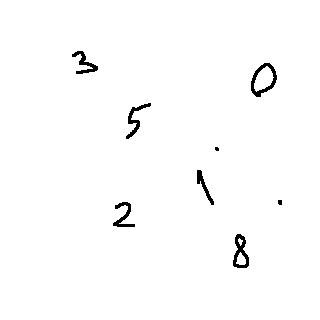.: (275, 191, 290, 213), (209, 144, 229, 156)
0: (244, 58, 285, 104)
1: (187, 163, 219, 213)
2: (111, 188, 142, 238)
3: (68, 46, 106, 81)
5: (123, 97, 155, 151)
8: (221, 234, 260, 275)
